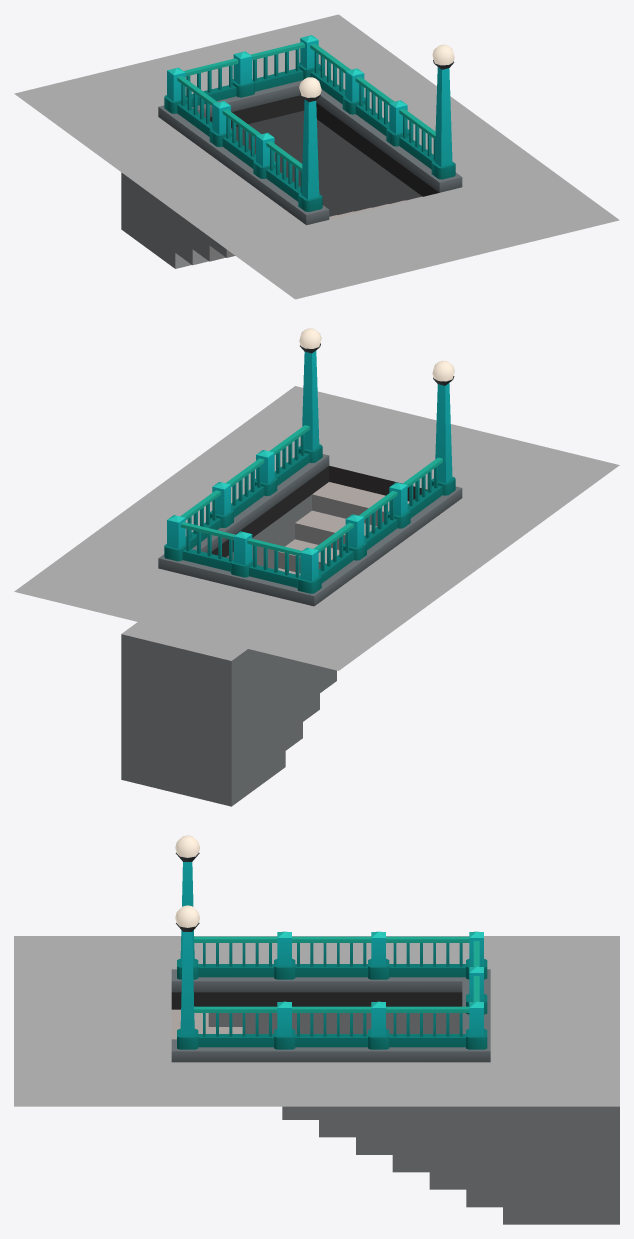
File: subway_001.glb
3 views of the same model, one above another, from view 1: azimuth 30°, elevation 25°; view 2: azimuth 150°, elevation 25°; view 3: azimuth 270°, elevation 25° (orthographic). The views are drawn at different scales.
Visible parts, largest first — view 1: subway_001; view 2: subway_001; view 3: subway_001.
Part boxes in pixels (x1,y1,x2,y2): subway_001: (14, 14, 619, 299); subway_001: (14, 328, 619, 806); subway_001: (14, 835, 619, 1224).
Bounding box in the file's own units: 10 × 8.85 × 15.
2 materials, 2 textured.
